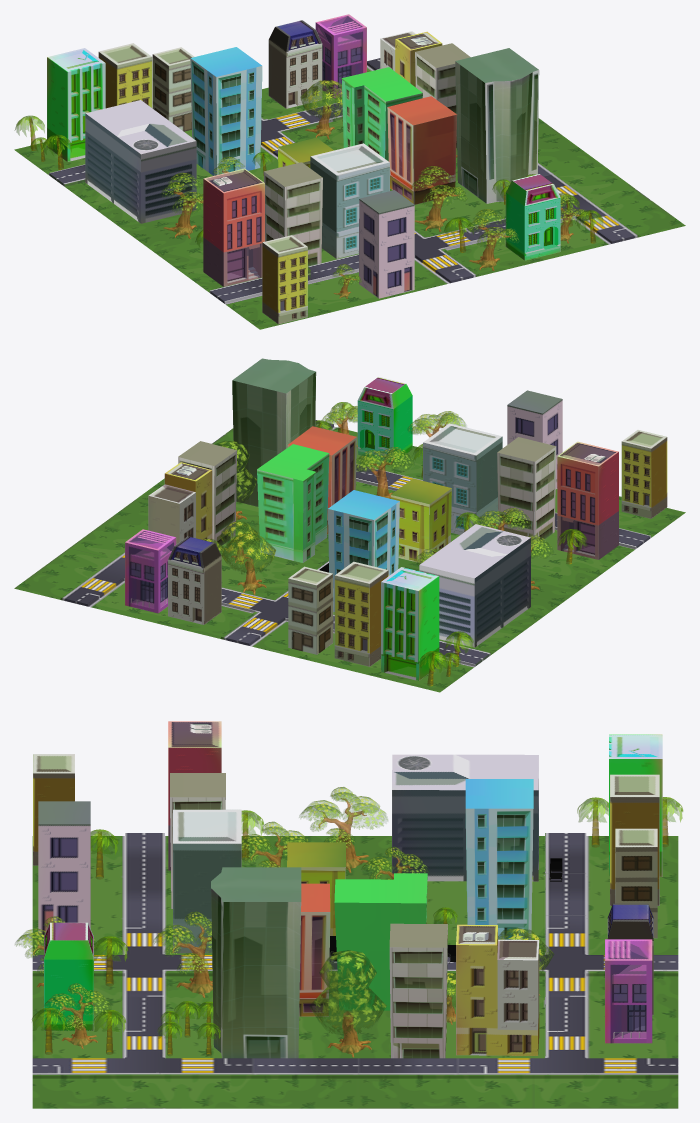
The model's file is Low_Poly_City_a9a05a47.glb.
3 views of the same model, one above another, from view 1: azimuth 30°, elevation 25°; view 2: azimuth 150°, elevation 25°; view 3: azimuth 270°, elevation 25° (orthographic). The views are drawn at different scales.
Visible parts, largest first — view 1: Buildings_building_material_0, Floor_Material #33_0, tree:tree009_Tree Material_0, Tree!_Material #8_0; view 2: Buildings_building_material_0, Floor_Material #33_0, tree:tree009_Tree Material_0, Tree!_Material #8_0; view 3: Buildings_building_material_0, Floor_Material #33_0, tree:tree009_Tree Material_0, Tree!_Material #8_0, Bus_bus_material_0.
Boxes of the visible parts, x1,y1,x2,y2 form: Buildings_building_material_0: (47, 14, 560, 324); Floor_Material #33_0: (14, 58, 685, 329); tree:tree009_Tree Material_0: (161, 80, 588, 298); Tree!_Material #8_0: (14, 115, 603, 278); Buildings_building_material_0: (125, 358, 667, 680); Floor_Material #33_0: (14, 420, 685, 692); tree:tree009_Tree Material_0: (203, 406, 557, 595); Tree!_Material #8_0: (315, 402, 587, 686); Buildings_building_material_0: (33, 721, 662, 1058); Floor_Material #33_0: (32, 833, 678, 1108); tree:tree009_Tree Material_0: (15, 787, 554, 1057); Tree!_Material #8_0: (32, 797, 683, 1055); Bus_bus_material_0: (329, 858, 562, 963).
Size of the model in its own units: 1006 by 275 by 1041.
Materials: 5 (5 with a texture image).
